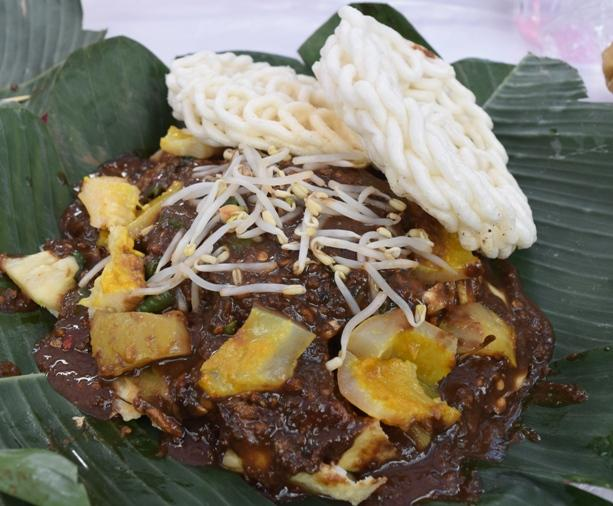rujak_cingur: (1, 9, 556, 506)
